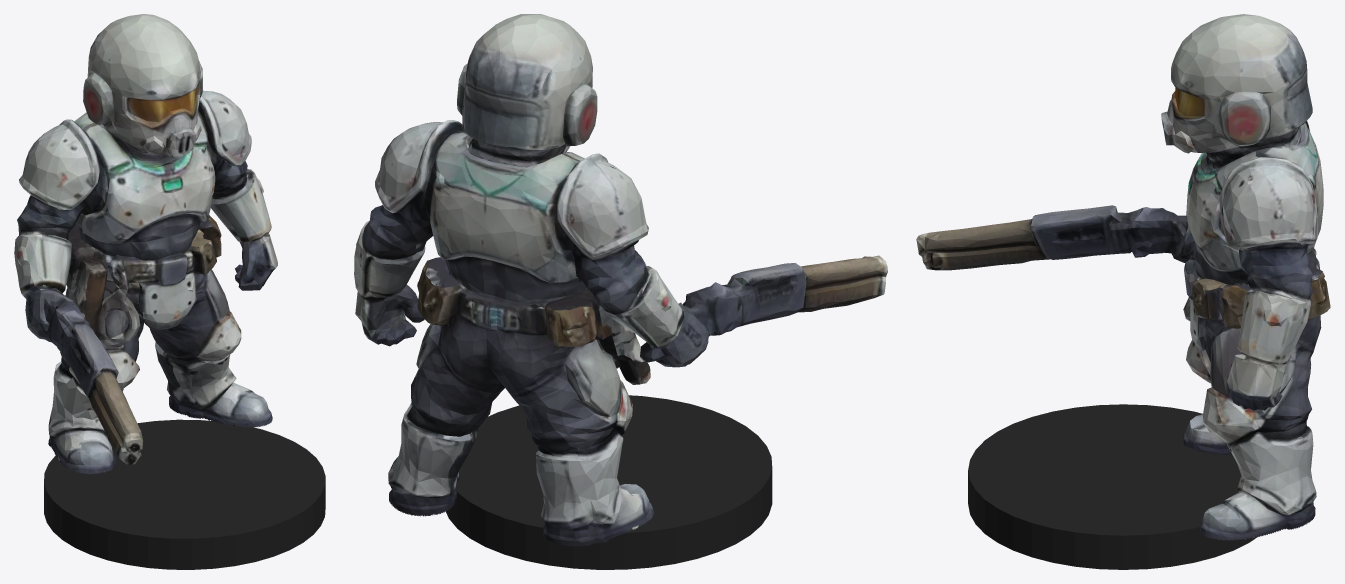
The model's file is warden-rifle-b.glb.
3 renders of one model, left to right at view 1: azimuth 30°, elevation 25°; view 2: azimuth 150°, elevation 25°; view 3: azimuth 270°, elevation 25°, orthographic. The views are drawn at different scales.
Parts seen in each view (by area): view 1: figure, base; view 2: figure, base; view 3: figure, base.
Boxes of the visible parts, bbox=[...] form: figure: bbox=[14, 14, 277, 474]; base: bbox=[44, 419, 325, 569]; figure: bbox=[354, 14, 887, 546]; base: bbox=[446, 395, 772, 569]; figure: bbox=[916, 14, 1330, 540]; base: bbox=[968, 404, 1257, 569].
Size of the model in its own units: 1.21 by 1.72 by 1.31.
2 materials, 1 textured.
